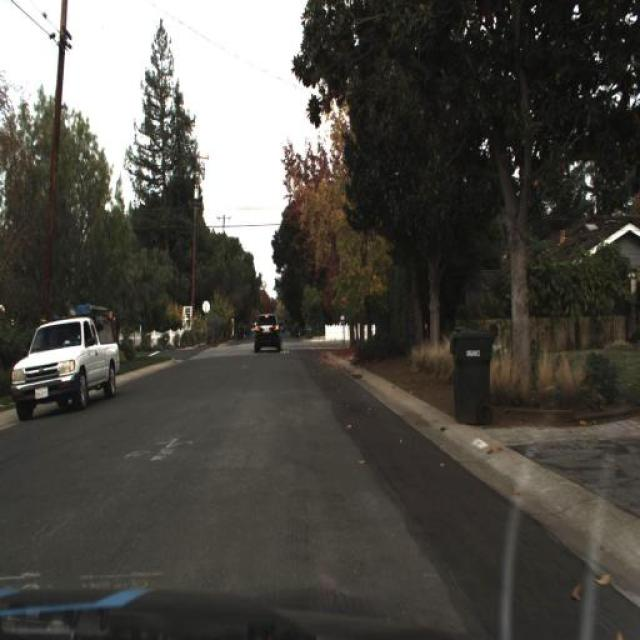car: (12, 298, 126, 427), (5, 305, 124, 421), (251, 309, 287, 359)
